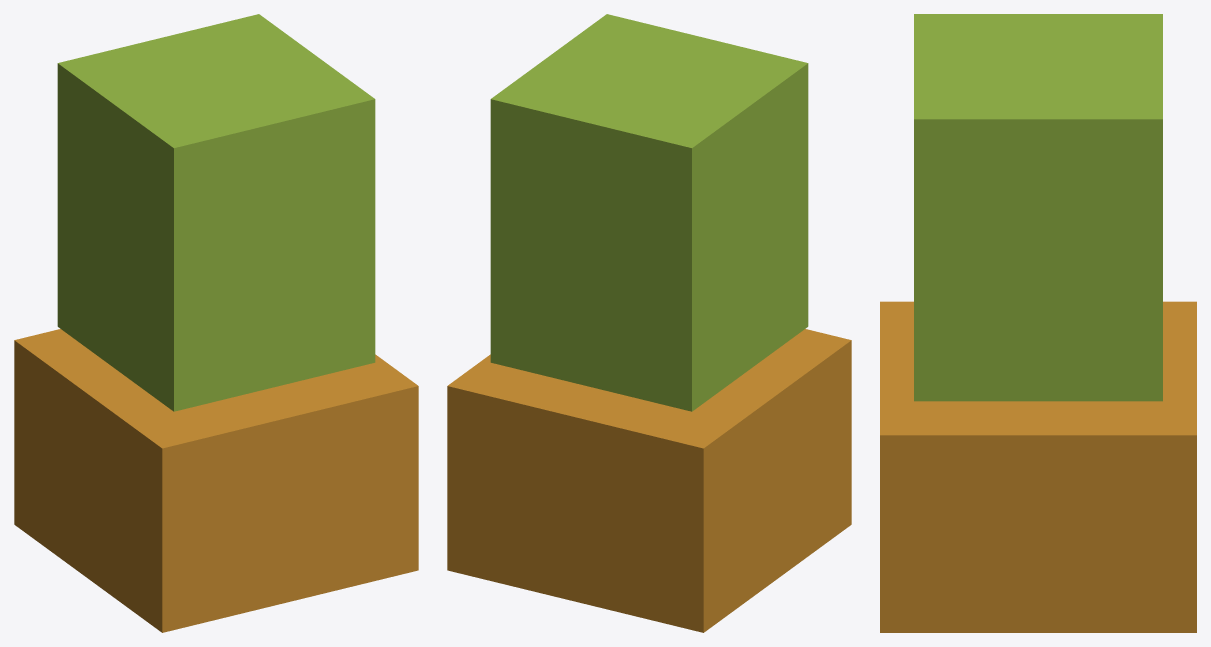
The model's file is vaso-planta.glb.
3 renders of one model, left to right at view 1: azimuth 30°, elevation 25°; view 2: azimuth 150°, elevation 25°; view 3: azimuth 270°, elevation 25°, orthographic. The views are drawn at different scales.
Size of the model in its own units: 0.28 by 0.4868 by 0.28.
